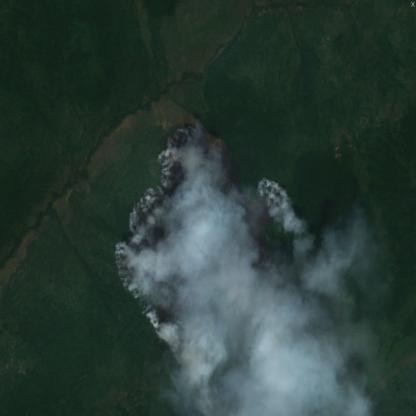fire: (108, 110, 293, 347)
